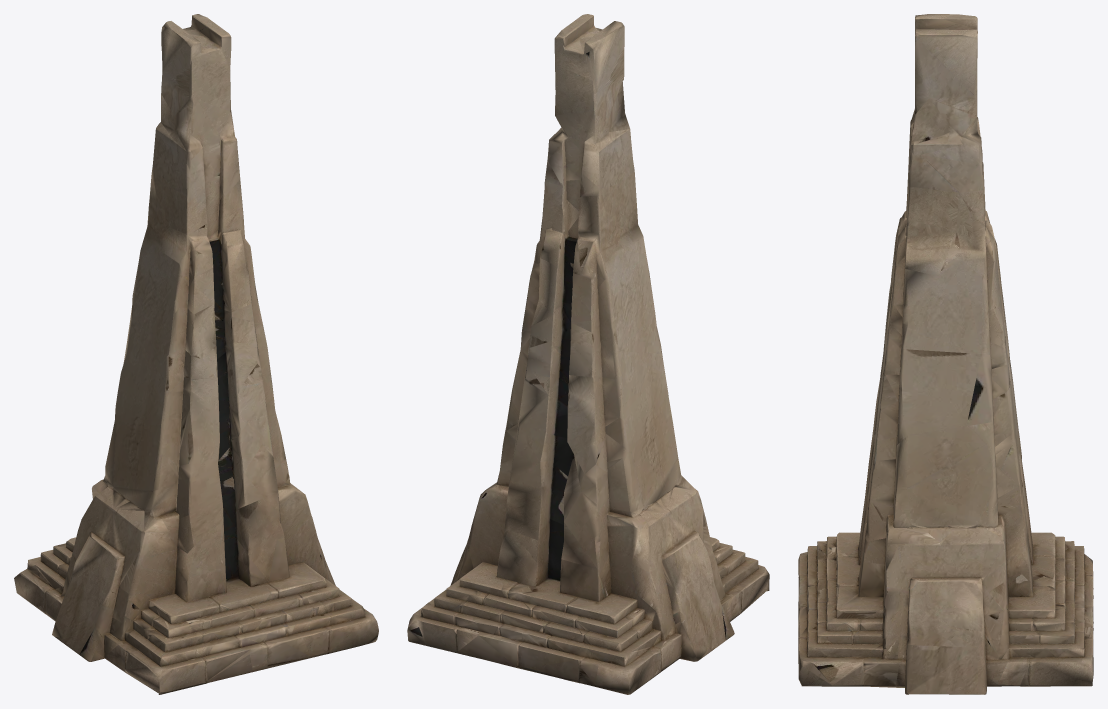
The model's file is kybertemple.lod1.glb.
3 views of the same model, side by side, from view 1: azimuth 30°, elevation 25°; view 2: azimuth 150°, elevation 25°; view 3: azimuth 270°, elevation 25° (orthographic). The views are drawn at different scales.
Visible parts, largest first — view 1: kybertemple-centred; view 2: kybertemple-centred; view 3: kybertemple-centred.
Boxes of the visible parts, x1,y1,x2,y2 form: kybertemple-centred: [14, 14, 378, 694]; kybertemple-centred: [407, 14, 769, 694]; kybertemple-centred: [798, 14, 1093, 694].
Bounding box in the file's own units: 40.47 × 89.98 × 39.59.
1 material, 1 textured.
